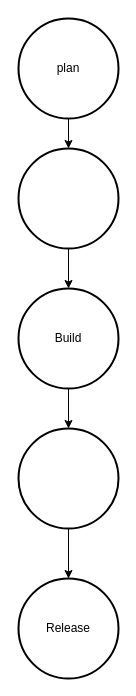
The diagram is 136 pixels wide and 696 high, and some of its shapes have lost their labels. The box of each missing label's shape, as (x1, y1, x2, y2) in pixels:
Design: (17, 147, 119, 249)
Test: (17, 427, 119, 529)
